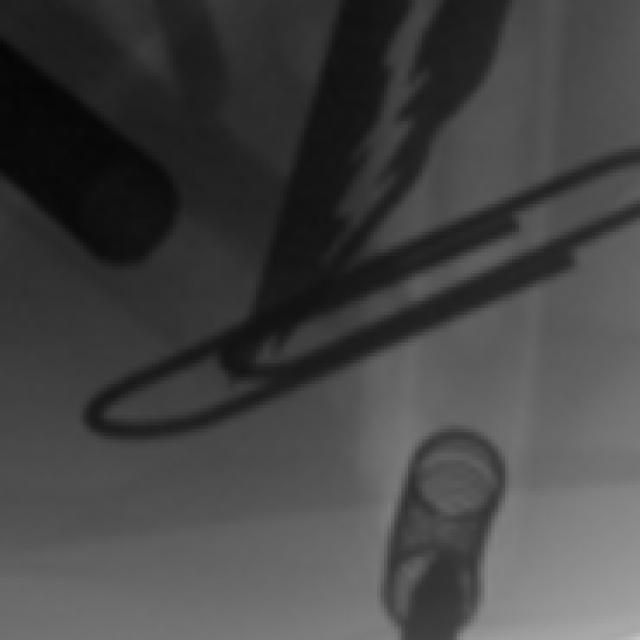BLADE: (258, 14, 467, 272)
GUN: (1, 42, 154, 254)
